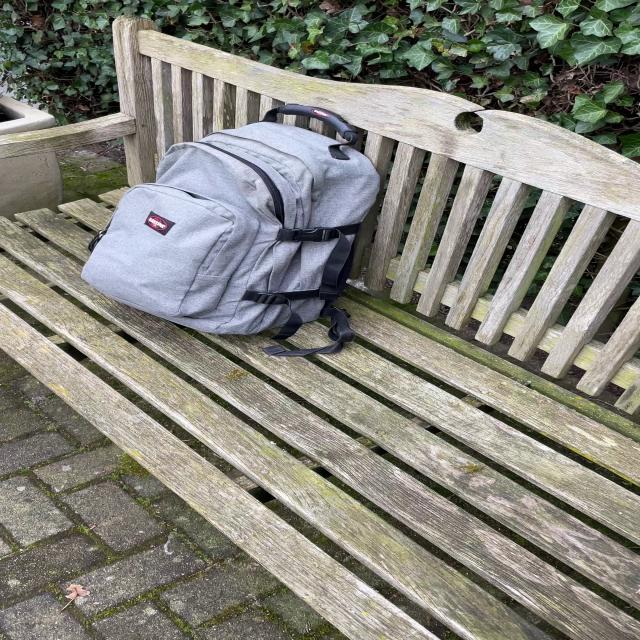backpack: (67, 101, 388, 340)
